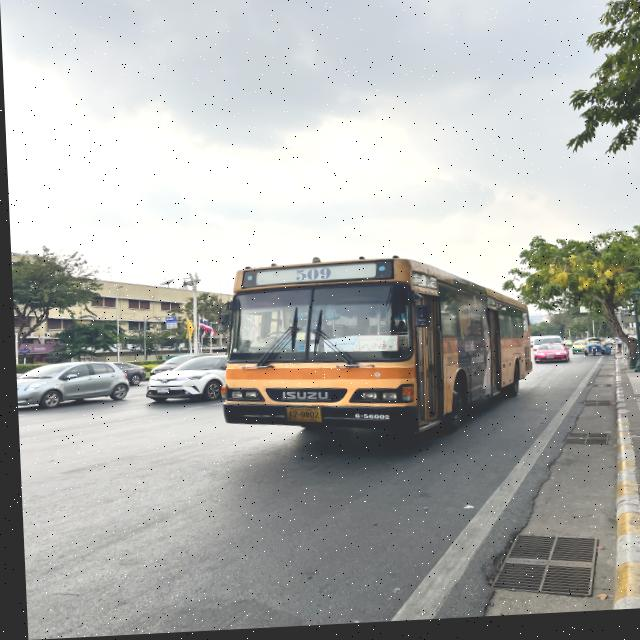BMTA-bus: (218, 261, 531, 446)
Bus Line Number: (289, 269, 331, 287)
Bus Side Number: (346, 414, 388, 429)
Destination Sign: (339, 336, 397, 358)
